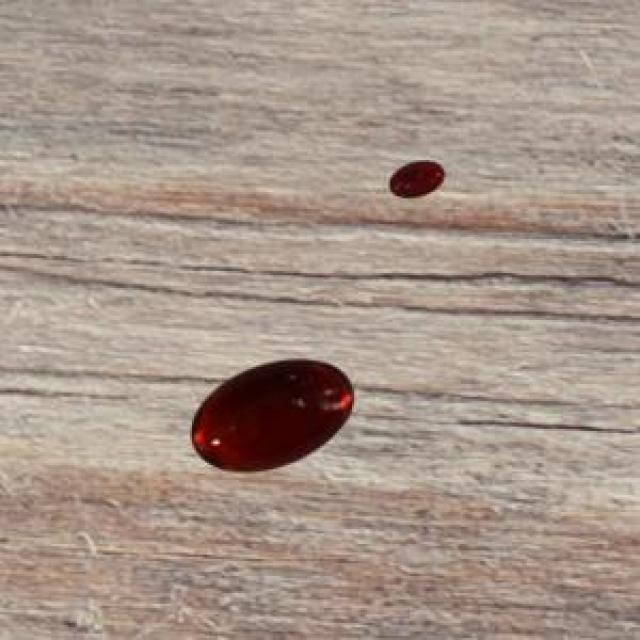Medicol: (175, 346, 358, 486), (377, 150, 456, 213)
